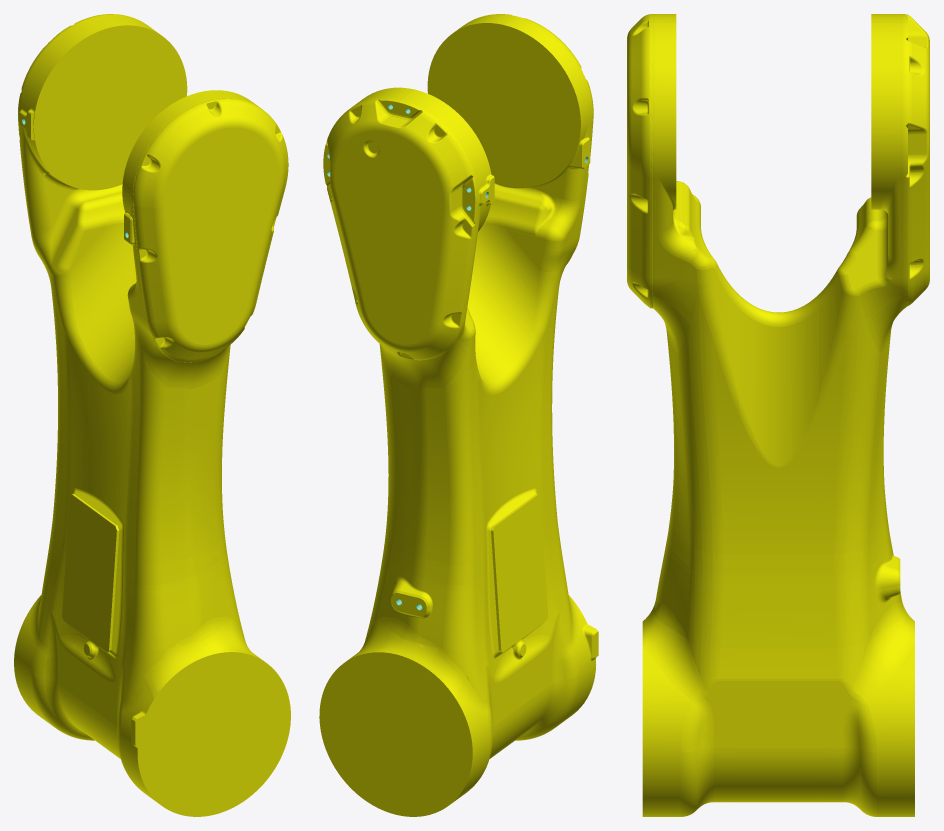
3 renders of one model, left to right at view 1: azimuth 30°, elevation 25°; view 2: azimuth 150°, elevation 25°; view 3: azimuth 270°, elevation 25°, orthographic. The views are drawn at different scales.
Visible parts, largest first — view 1: Mesh_0; view 2: Mesh_0; view 3: Mesh_0.
Part boxes in pixels (x1=…): Mesh_0: x1=14, y1=14, x2=290, y2=816; Mesh_0: x1=319, y1=14, x2=598, y2=816; Mesh_0: x1=627, y1=14, x2=929, y2=816.
Size of the model in its own units: 0.268 by 0.409 by 1.17.
